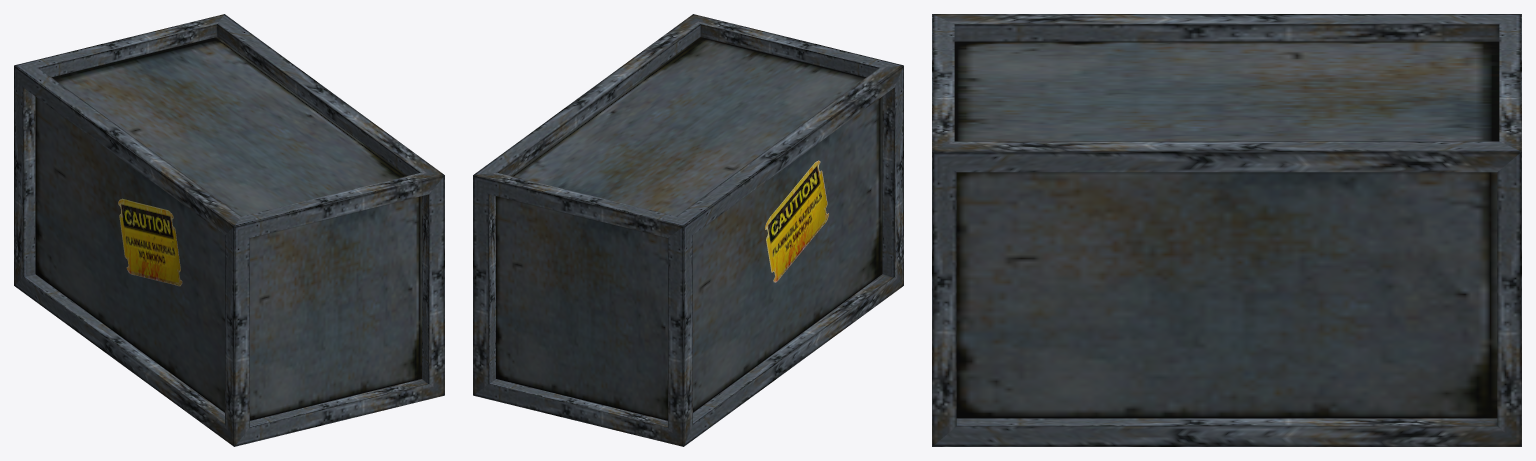
Rendered from Model_Crate_11.fbx.
The picture shows the model from 3 angles, left to right: view 1: azimuth 30°, elevation 25°; view 2: azimuth 150°, elevation 25°; view 3: azimuth 270°, elevation 25°; orthographic projection. The views are drawn at different scales.
Visible parts, largest first — view 1: Crates_11; view 2: Crates_11; view 3: Crates_11.
Part boxes in pixels (x1,y1,x2,y2): Crates_11: (14, 14, 444, 446); Crates_11: (473, 14, 903, 446); Crates_11: (932, 14, 1521, 446).
Bounding box in the file's own units: 81.24 × 81.24 × 147.
